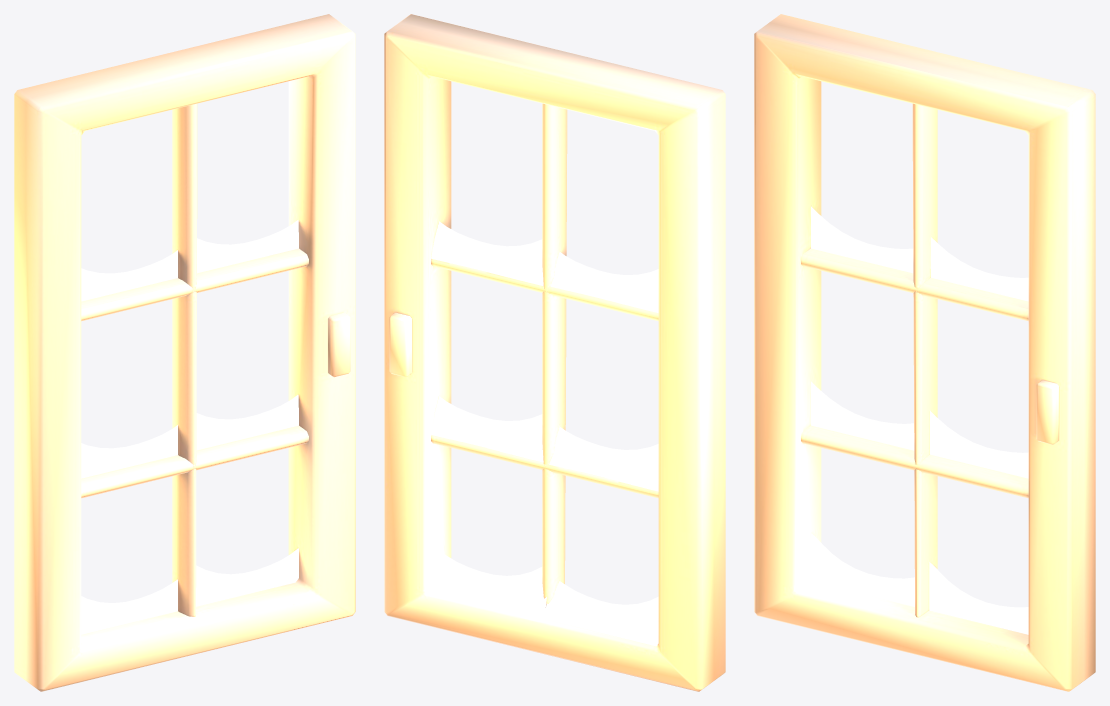
File: window.glb
3 renders of one model, left to right at view 1: azimuth 30°, elevation 25°; view 2: azimuth 150°, elevation 25°; view 3: azimuth 330°, elevation 25°, orthographic.
Parts seen in each view (by area): view 1: window.1; view 2: window.1; view 3: window.1.
Part boxes in pixels (x1,y1,x2,y2): window.1: (14,14,355,691); window.1: (384,14,725,691); window.1: (754,14,1095,691).
Bounding box in the file's own units: 2.18 × 3.83 × 0.4465.
